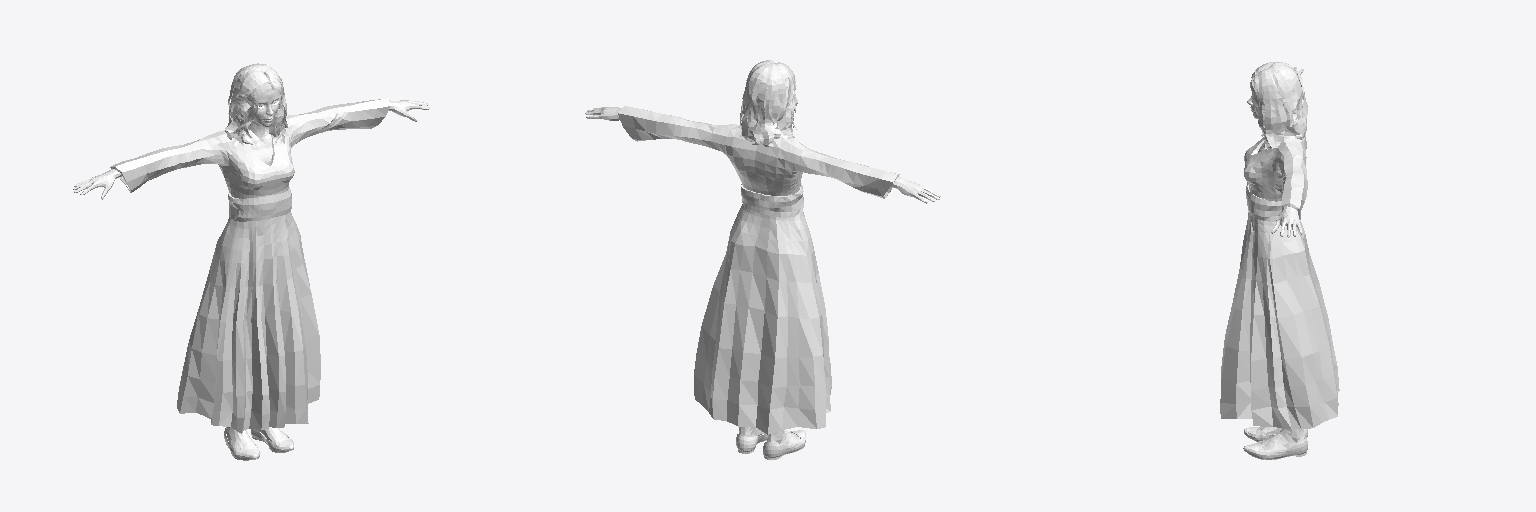
Rendered from RandomMeuf.obj.
The picture shows the model from 3 angles: view 1: azimuth 30°, elevation 25°; view 2: azimuth 150°, elevation 25°; view 3: azimuth 270°, elevation 25°; orthographic projection.
Visible parts, largest first — view 1: Tops, Hair, Body, Shoes; view 2: Tops, Hair, Body, Shoes; view 3: Tops, Hair, Body, Shoes.
Boxes of the visible parts, box(x1,y1,x2,y2) form: Tops: box(110, 98, 389, 433); Hair: box(225, 63, 289, 147); Body: box(73, 90, 429, 449); Shoes: box(224, 427, 293, 460); Tops: box(618, 106, 899, 434); Hair: box(740, 60, 797, 146); Body: box(585, 107, 940, 445); Shoes: box(736, 430, 805, 459); Tops: box(1220, 75, 1339, 428); Hair: box(1250, 62, 1306, 149); Body: box(1247, 67, 1304, 449); Shoes: box(1243, 426, 1307, 459).
Bounding box in the file's own units: 167 × 173 × 48.81.